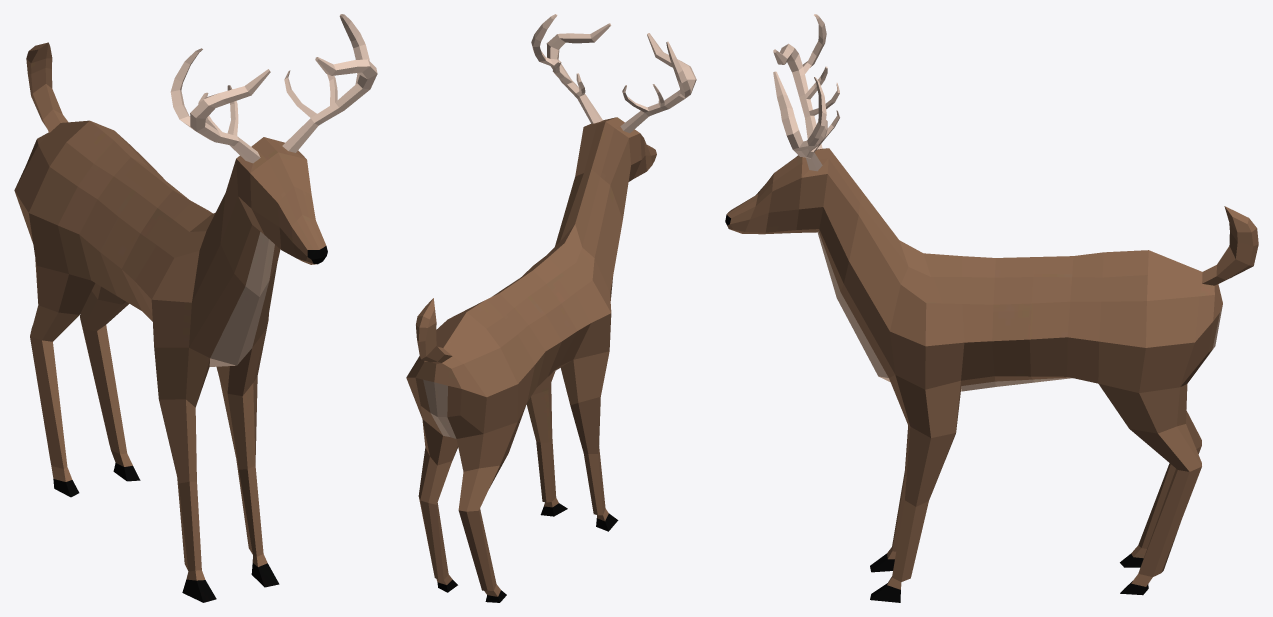
Rendered from prop_pa_deer.glb.
3 views of the same model, side by side, from view 1: azimuth 30°, elevation 25°; view 2: azimuth 150°, elevation 25°; view 3: azimuth 270°, elevation 25° (orthographic). The views are drawn at different scales.
Visible parts, largest first — view 1: 05deerFinal; view 2: 05deerFinal; view 3: 05deerFinal.
Part boxes in pixels (x1,y1,x2,y2): 05deerFinal: (14, 14, 377, 602); 05deerFinal: (406, 14, 696, 602); 05deerFinal: (725, 14, 1258, 602).
Size of the model in its own units: 0.7144 by 2.03 by 1.83.
Materials: 1 (1 with a texture image).
